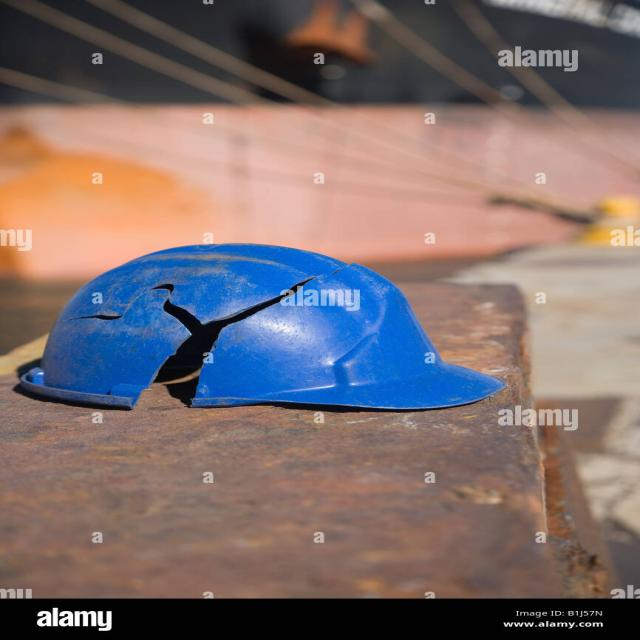BrokenHelmet: (91, 278, 320, 409)
